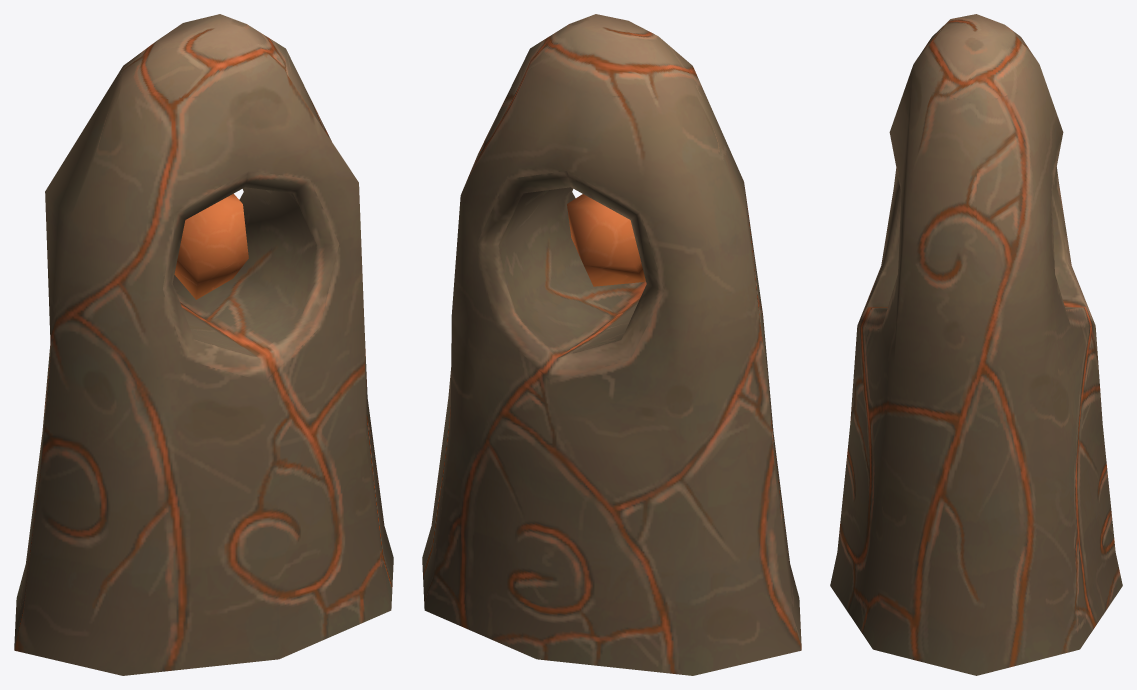
Rendered from dm_magic_stone.fbx.
3 views of the same model, side by side, from view 1: azimuth 30°, elevation 25°; view 2: azimuth 150°, elevation 25°; view 3: azimuth 270°, elevation 25° (orthographic). The views are drawn at different scales.
Parts seen in each view (by area): view 1: dm_magic_stone; view 2: dm_magic_stone; view 3: dm_magic_stone.
Part boxes in pixels (<box>): dm_magic_stone: <box>14,14,393,675</box>; dm_magic_stone: <box>422,14,801,675</box>; dm_magic_stone: <box>830,14,1122,675</box>.
Size of the model in its own units: 0.6748 by 0.9783 by 0.4631.
